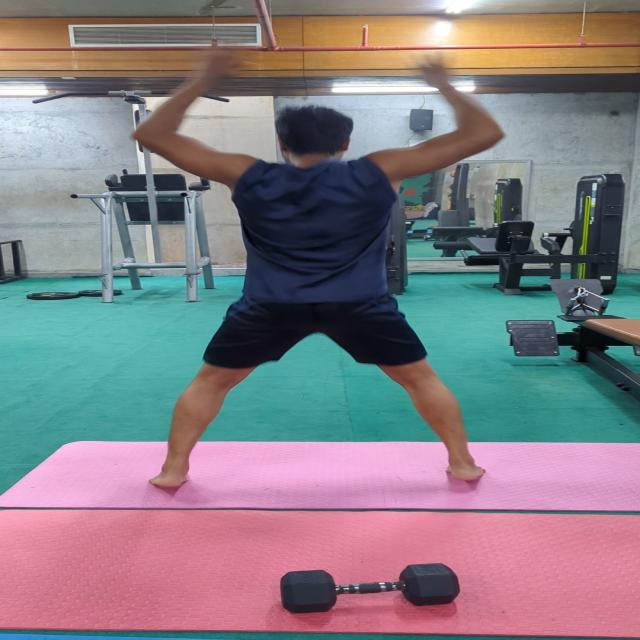Normal_JumpingJacks: (97, 31, 547, 497)
